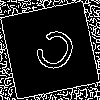C: (25, 25, 81, 84)
